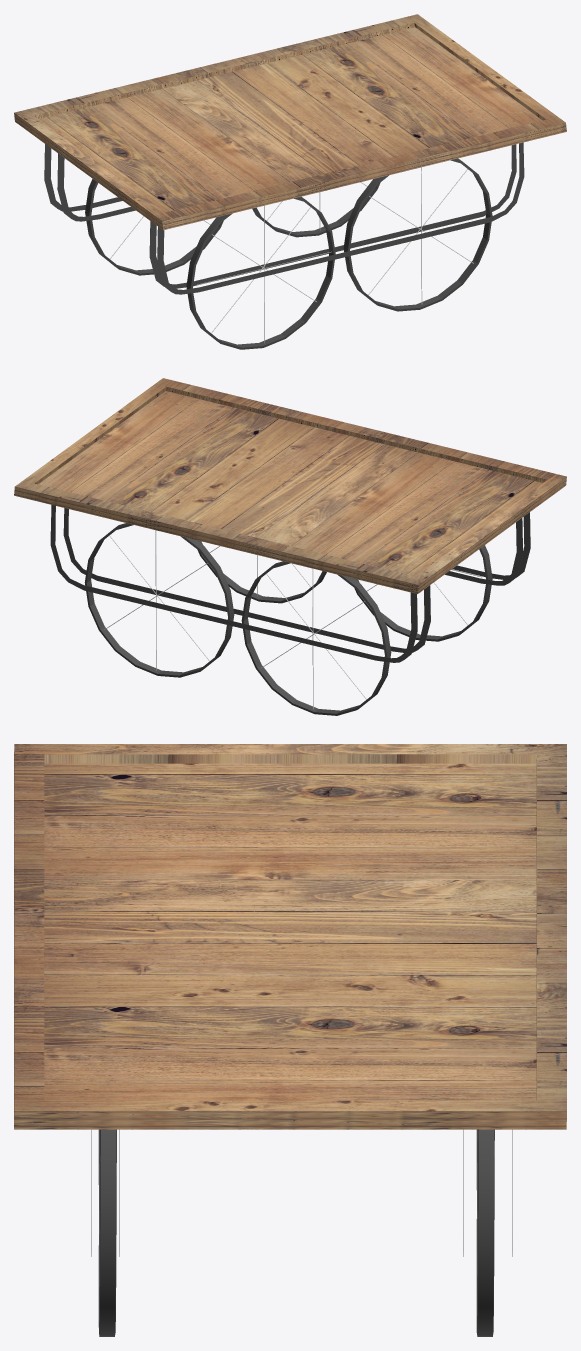
The model's file is veg vehicle.fbx.
3 views of the same model, one above another, from view 1: azimuth 30°, elevation 25°; view 2: azimuth 150°, elevation 25°; view 3: azimuth 270°, elevation 25° (orthographic). The views are drawn at different scales.
Visible parts, largest first — view 1: veg_vehicle; view 2: veg_vehicle; view 3: veg_vehicle.
Boxes of the visible parts, x1=… form: veg_vehicle: x1=14, y1=14, x2=566, y2=349; veg_vehicle: x1=14, y1=378, x2=566, y2=715; veg_vehicle: x1=14, y1=744, x2=566, y2=1336.
Size of the model in its own units: 354 by 145 by 225.
Materials: 4 (1 with a texture image).
